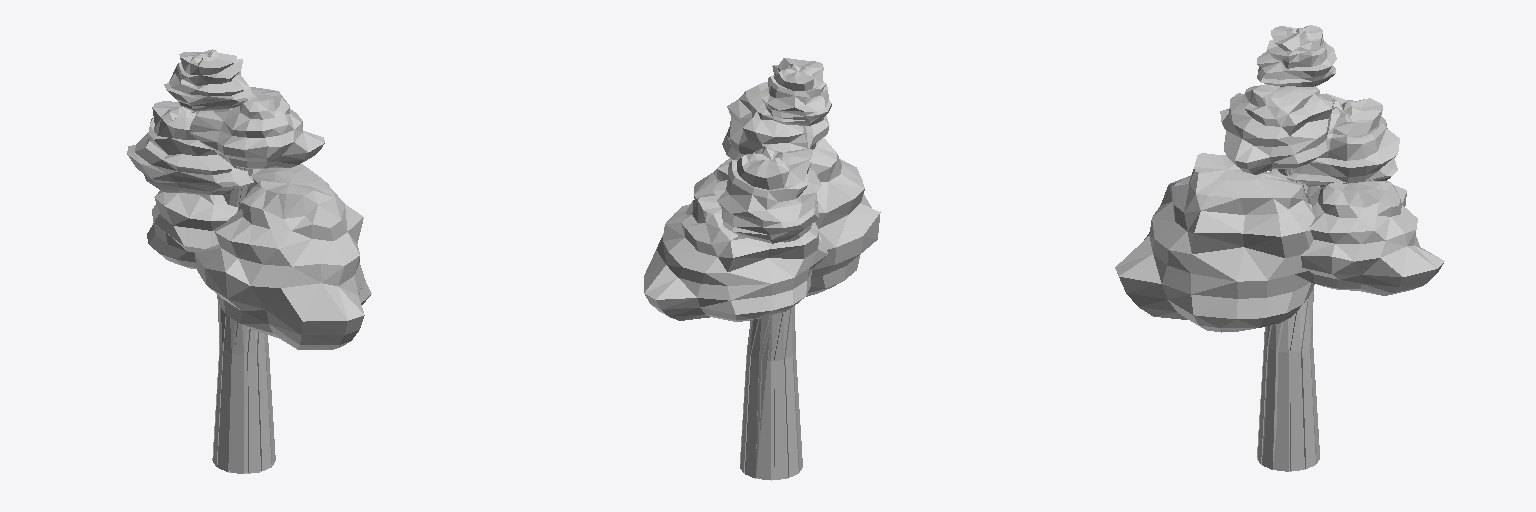
The model's file is TallTree2.obj.
The picture shows the model from 3 angles: view 1: azimuth 30°, elevation 25°; view 2: azimuth 150°, elevation 25°; view 3: azimuth 270°, elevation 25°; orthographic projection.
Parts seen in each view (by area): view 1: polySurface41; view 2: polySurface41; view 3: polySurface41.
Boxes of the visible parts, <box> form: polySurface41: <box>127,49,371,473</box>; polySurface41: <box>644,58,880,480</box>; polySurface41: <box>1115,25,1444,471</box>.
Size of the model in its own units: 5.87 by 14.34 by 10.39.